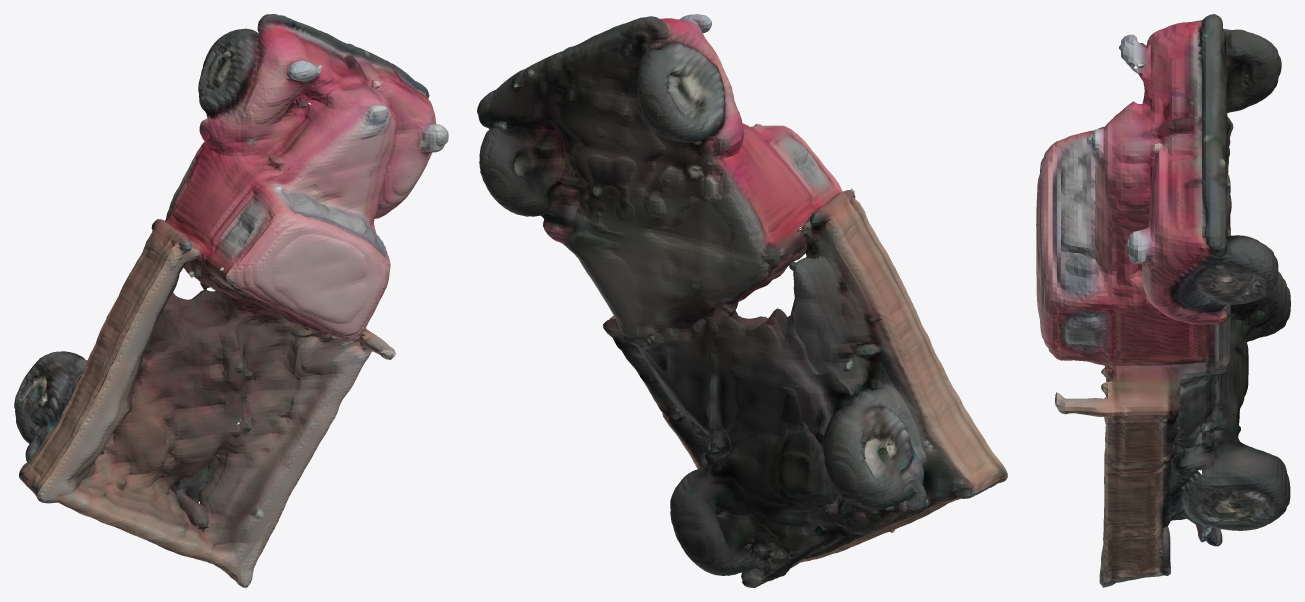
The model's file is 000001_isolated_fargo_truck.glb.
3 renders of one model, left to right at view 1: azimuth 30°, elevation 25°; view 2: azimuth 150°, elevation 25°; view 3: azimuth 270°, elevation 25°, orthographic. The views are drawn at different scales.
Visible parts, largest first — view 1: world; view 2: world; view 3: world.
Part boxes in pixels (x1,y1,x2,y2): world: (14,14,448,587); world: (477,14,1007,587); world: (1036,14,1290,587).
Size of the model in its own units: 0.9457 by 1.08 by 0.4075.
